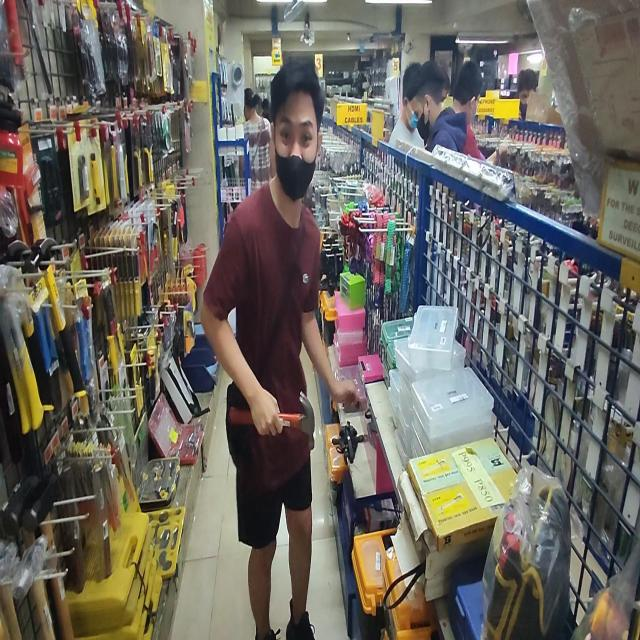hammer: (230, 392, 315, 448)
